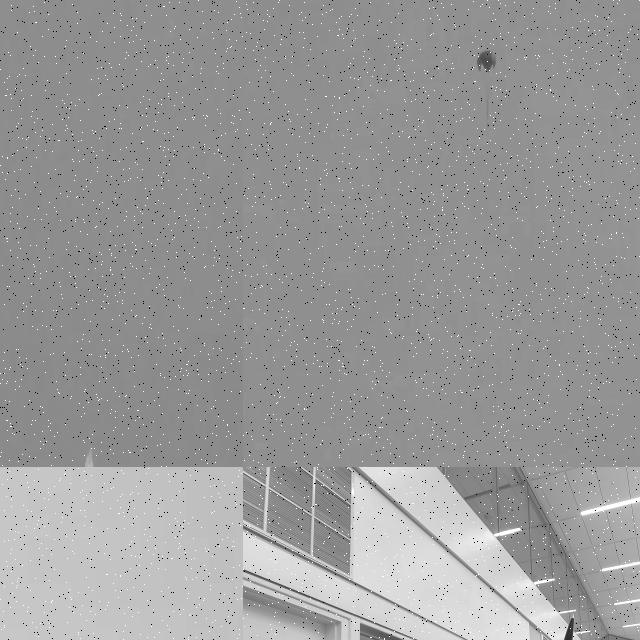Rocket: (84, 448, 96, 467), (487, 122, 489, 128)
